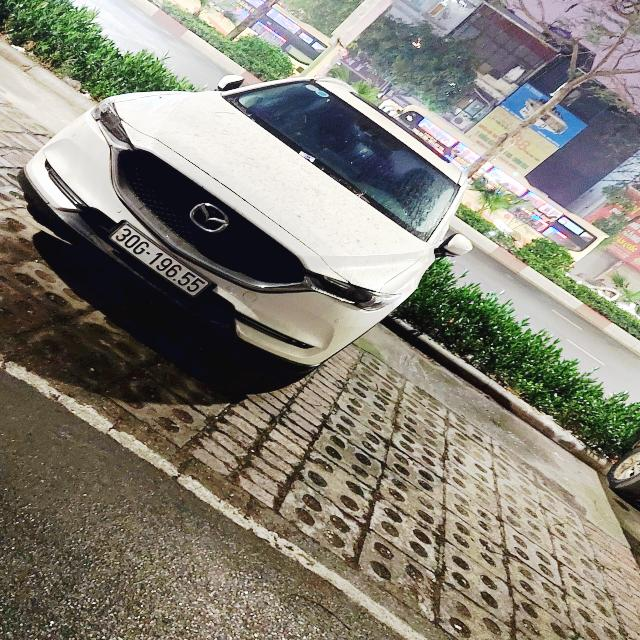license_plate: (107, 220, 223, 305)
